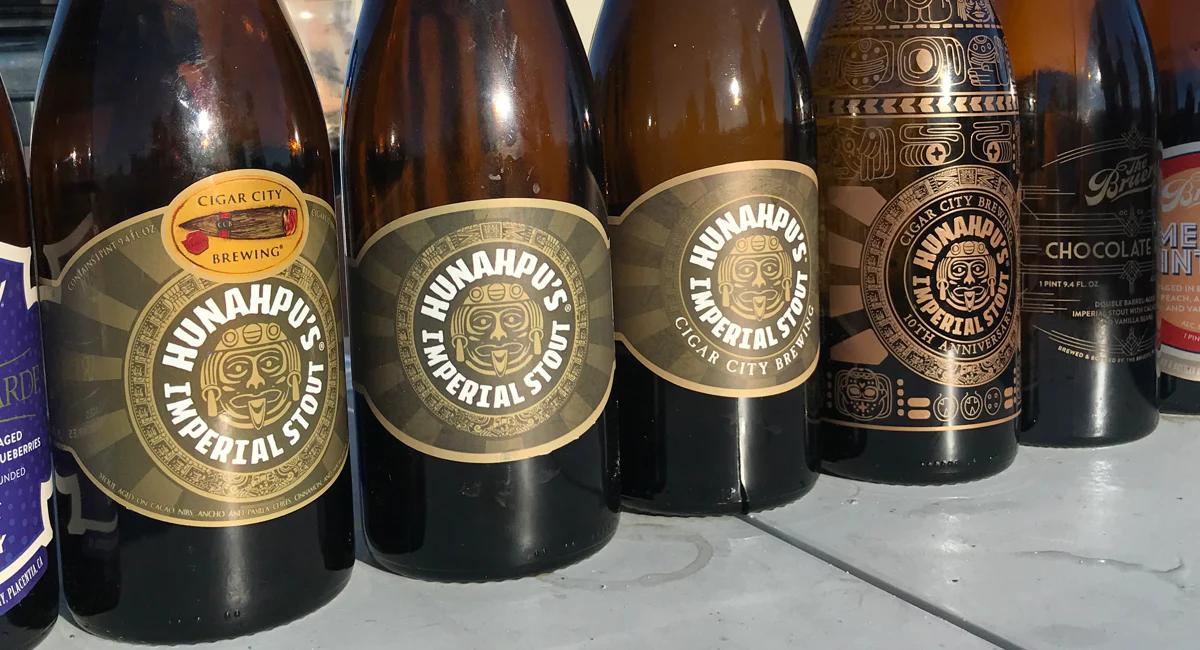glass: (332, 0, 822, 582), (0, 0, 353, 642), (810, 0, 1200, 490)
